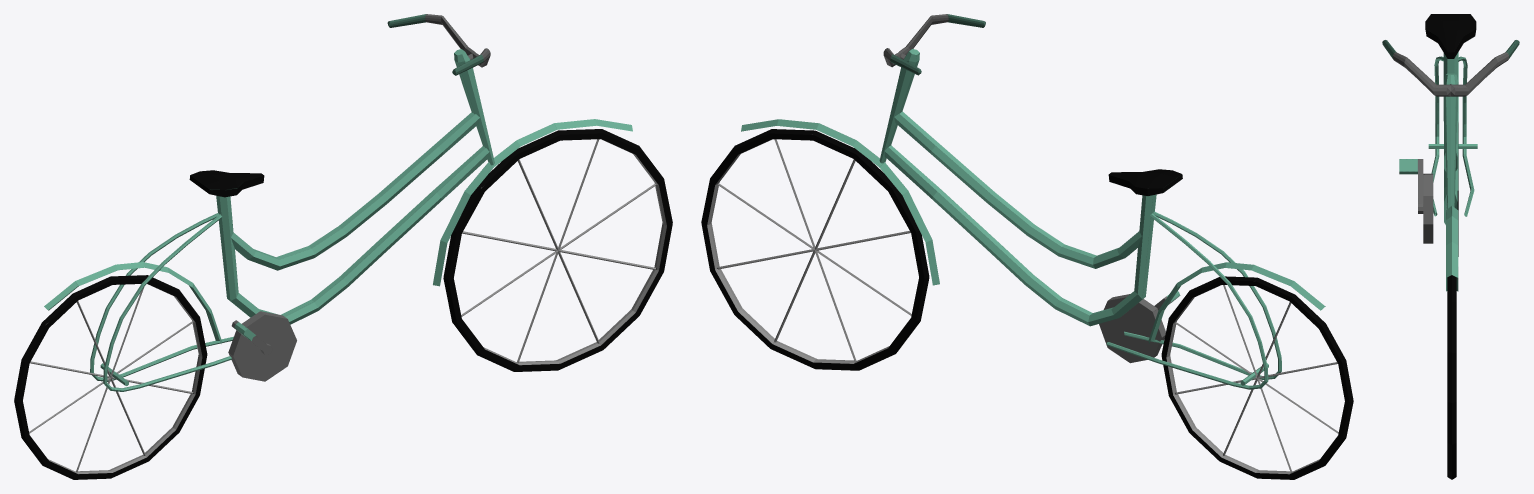
The model's file is Bicycle 1.fbx.
3 views of the same model, side by side, from view 1: azimuth 30°, elevation 25°; view 2: azimuth 150°, elevation 25°; view 3: azimuth 270°, elevation 25° (orthographic).
Parts seen in each view (by area): view 1: Bicycle, Bicycle.002, Bicycle.001; view 2: Bicycle, Bicycle.002, Bicycle.001; view 3: Bicycle, Bicycle.002.
Part boxes in pixels (left/top/right/bottom): Bicycle: left=44, top=14, right=632, bottom=391; Bicycle.002: left=443, top=129, right=672, bottom=371; Bicycle.001: left=14, top=275, right=207, bottom=479; Bicycle: left=741, top=14, right=1325, bottom=389; Bicycle.002: left=701, top=129, right=929, bottom=370; Bicycle.001: left=1161, top=276, right=1353, bottom=479; Bicycle: left=1382, top=14, right=1519, bottom=291; Bicycle.002: left=1447, top=275, right=1456, bottom=479.
Bounding box in the file's own units: 573 × 302 × 103.
